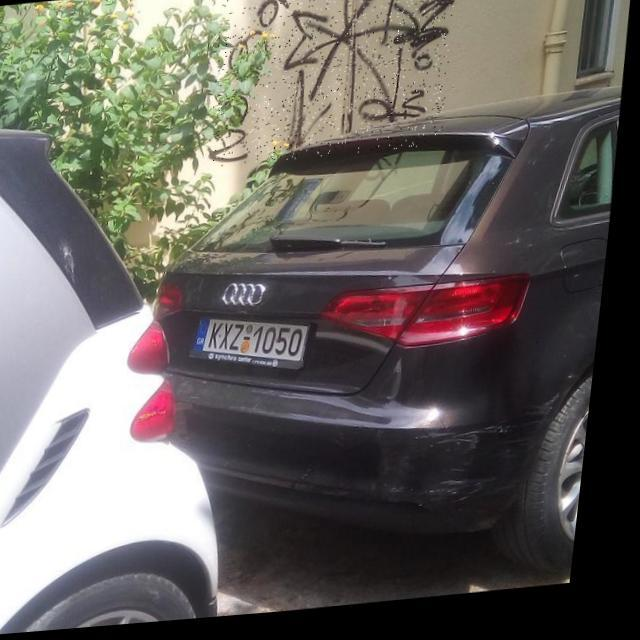-: (207, 0, 460, 171)
